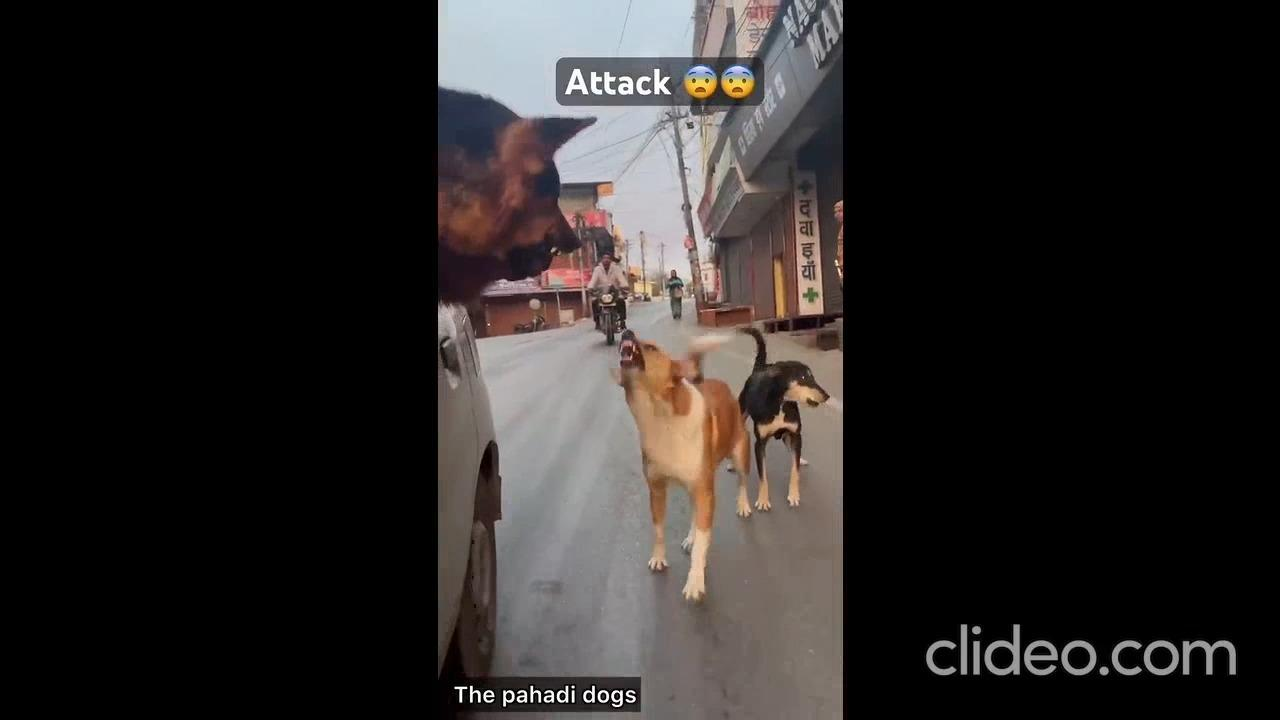dog: (606, 308, 753, 602), (723, 287, 846, 483)
